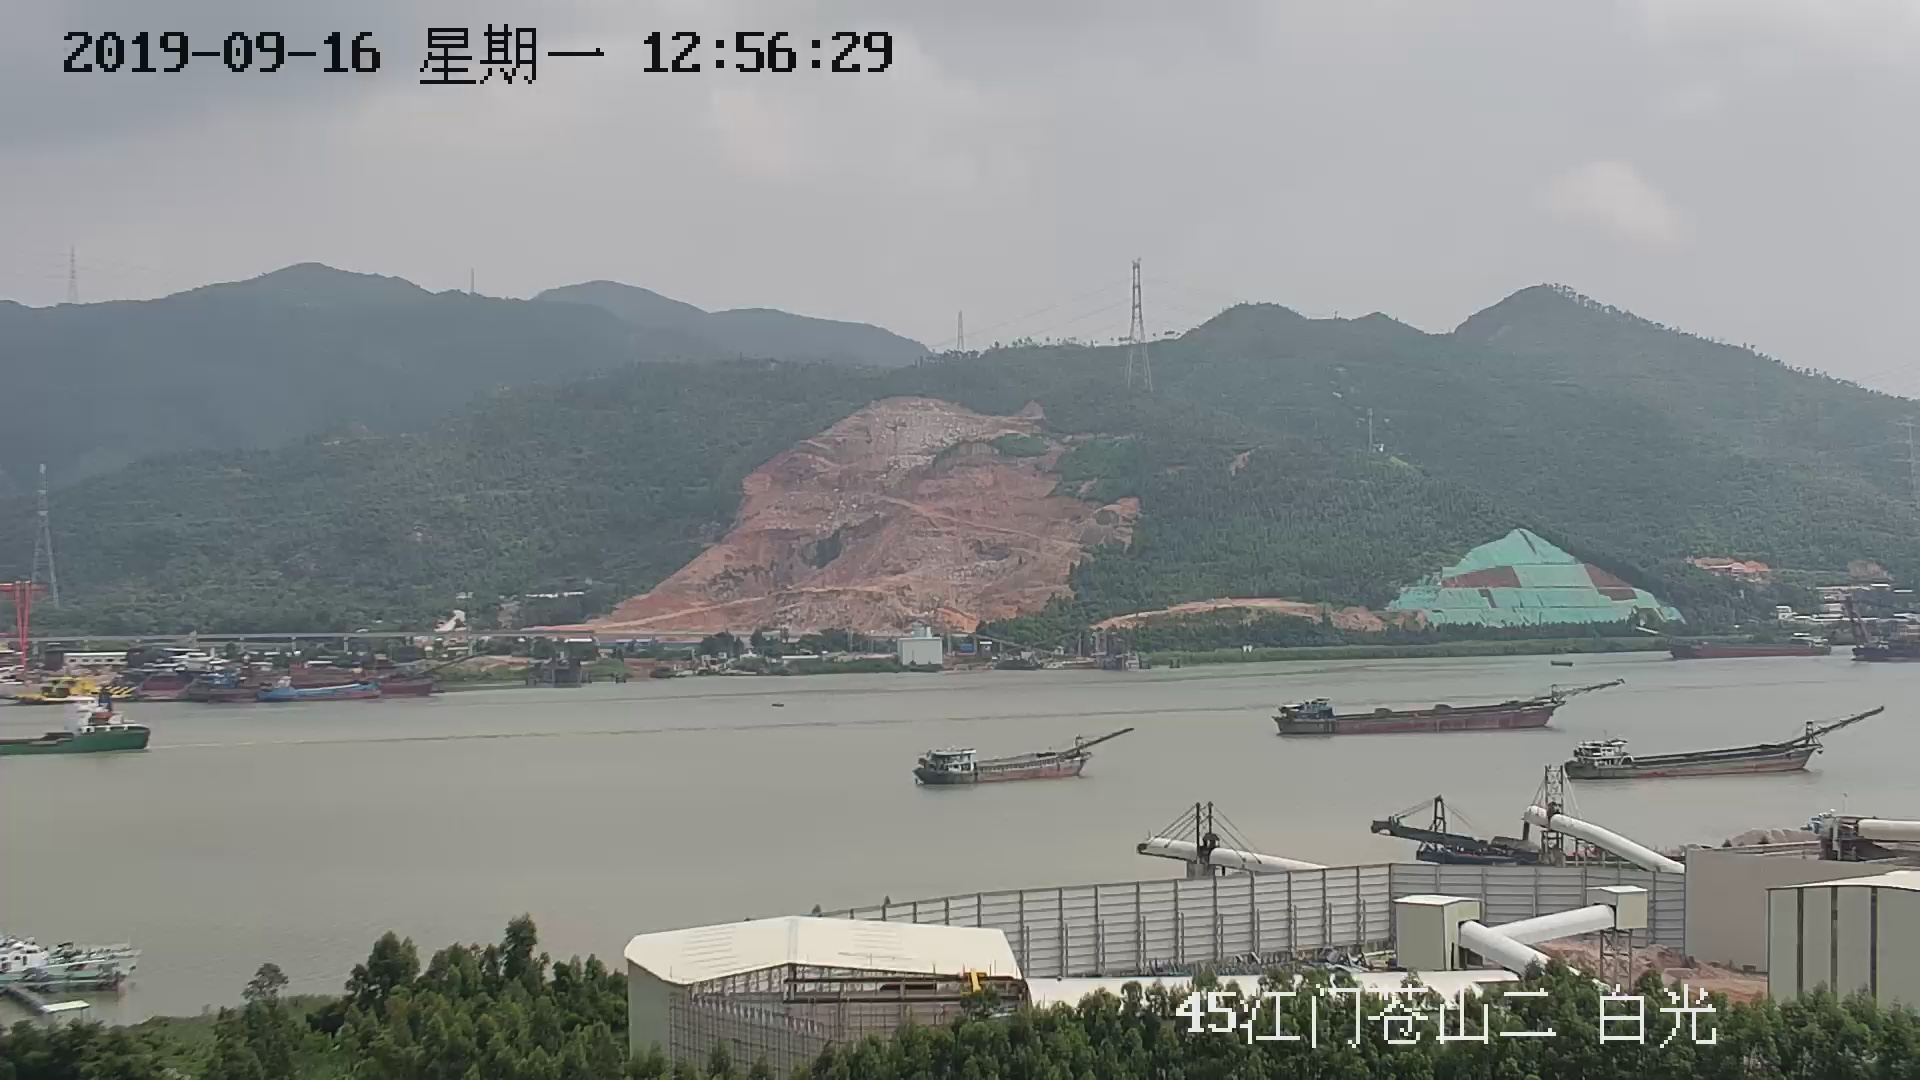ship: (1571, 712, 1902, 778), (1266, 680, 1625, 737), (913, 727, 1117, 789), (1, 699, 149, 754), (1, 934, 140, 992)
